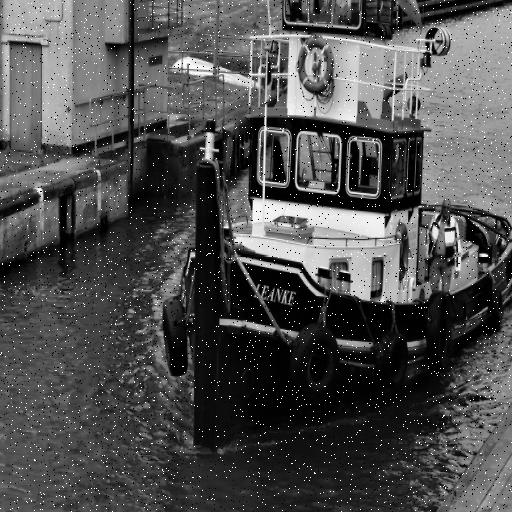tugboat: (160, 1, 512, 469)
